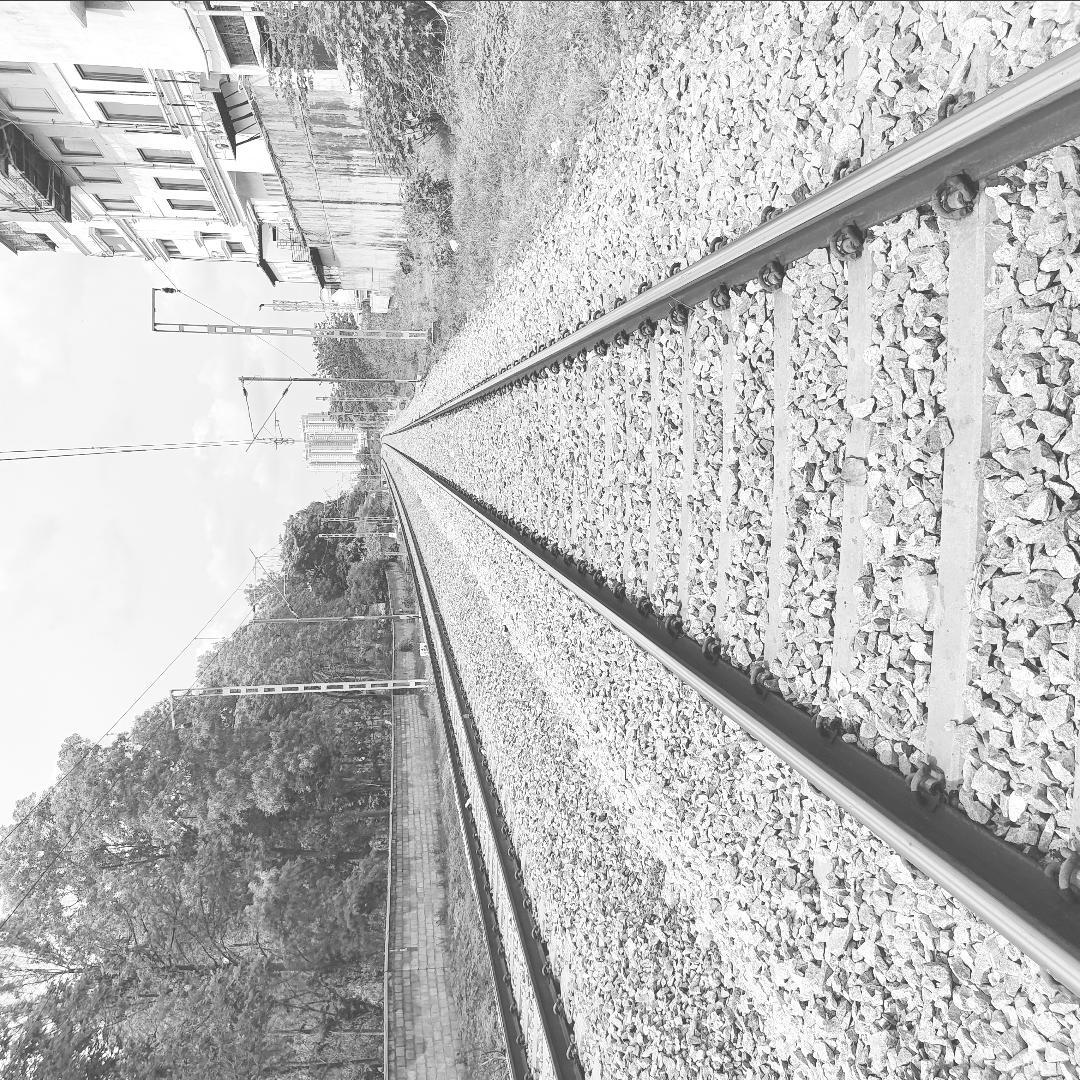track: (377, 10, 1080, 1031)
